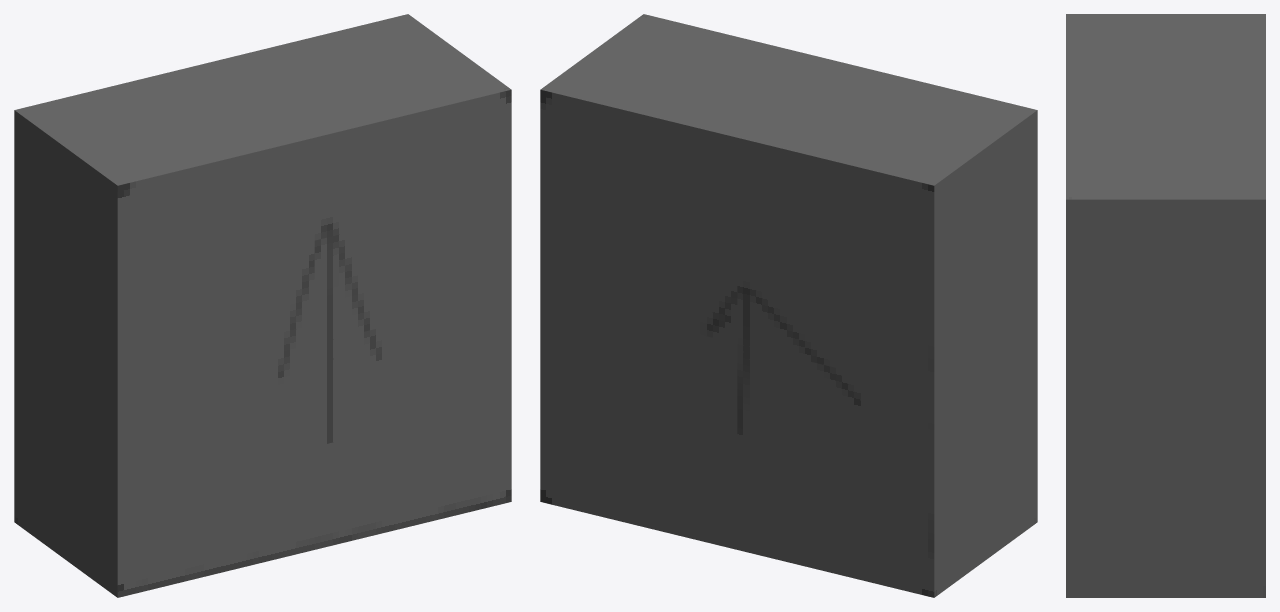
The model's file is Wall_LOD2.glb.
The picture shows the model from 3 angles, left to right: view 1: azimuth 30°, elevation 25°; view 2: azimuth 150°, elevation 25°; view 3: azimuth 270°, elevation 25°; orthographic projection. The views are drawn at different scales.
Visible parts, largest first — view 1: Cube; view 2: Cube; view 3: Cube.
Boxes of the visible parts, x1=… form: Cube: x1=14, y1=14, x2=511, y2=597; Cube: x1=540, y1=14, x2=1037, y2=597; Cube: x1=1066, y1=14, x2=1265, y2=597.
Bounding box in the file's own units: 4.4 × 4.4 × 2.
1 material, 1 textured.
